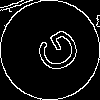G: (25, 25, 84, 82)
